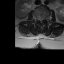CCS_normal: (40, 16, 42, 25)
LFS_severe_stenosis: (44, 17, 46, 21)
LLS_stenosis: (42, 17, 44, 22)
RFS_normal: (37, 17, 38, 22)
RLS_normal: (38, 17, 40, 22)
